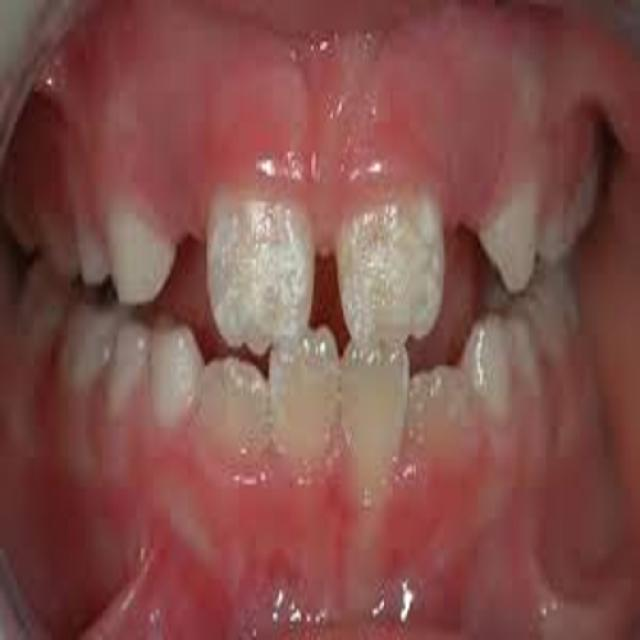Gap: (277, 219, 378, 326)
Missing: (380, 180, 537, 326)
